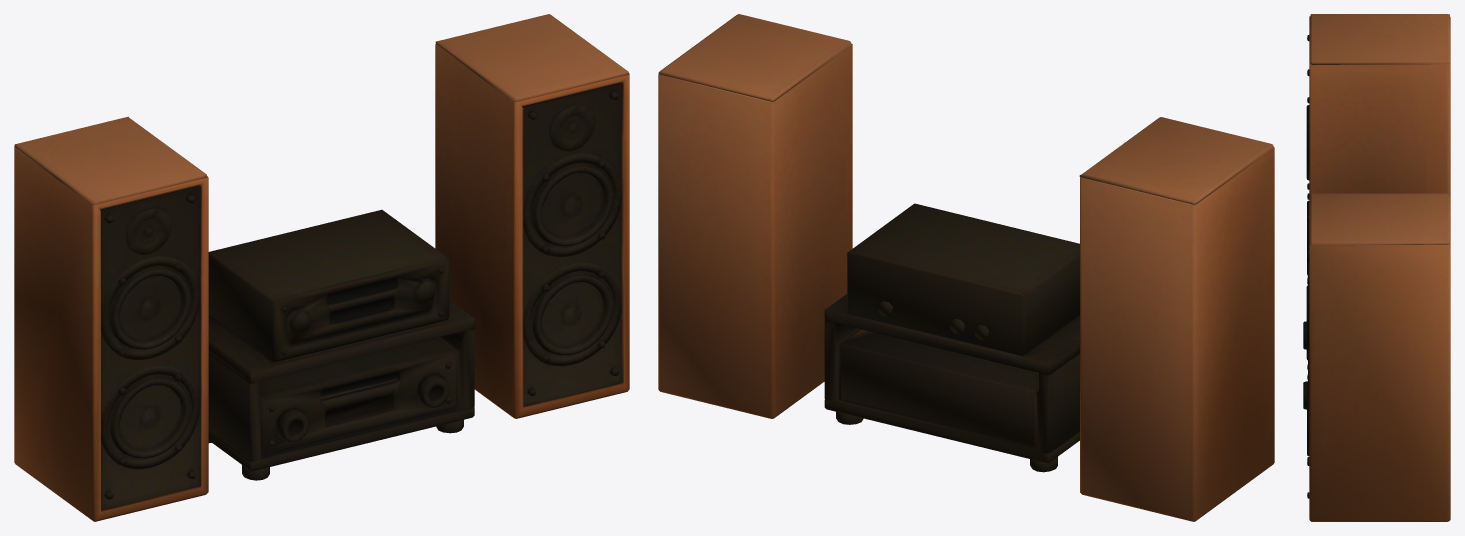
Rendered from Electronics__hi-fi_sound_system_2a2cc620_v3.cluster.glb.
3 views of the same model, side by side, from view 1: azimuth 30°, elevation 25°; view 2: azimuth 150°, elevation 25°; view 3: azimuth 270°, elevation 25° (orthographic). The views are drawn at different scales.
Visible parts, largest first — view 1: material; view 2: material; view 3: material.
Boxes of the visible parts, x1,y1,x2,y2 form: material: [14, 14, 629, 521]; material: [658, 14, 1274, 521]; material: [1303, 14, 1450, 521].
Size of the model in its own units: 1.9 by 1.09 by 0.5159.
1 material, 1 textured.
